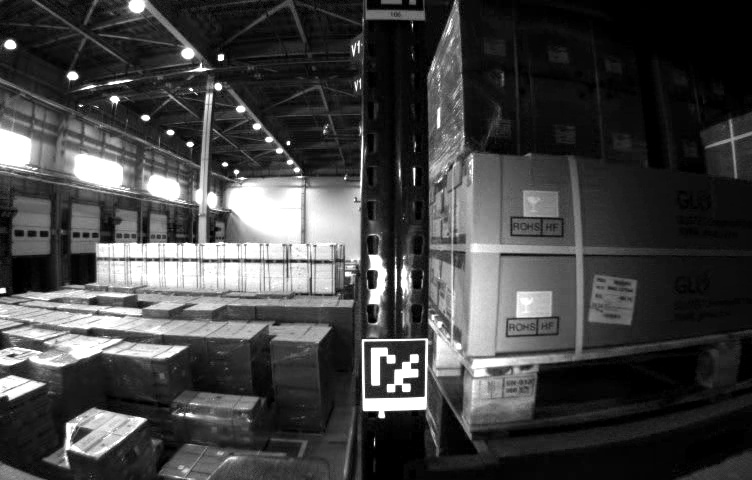True Barcode: (586, 274, 638, 326)
